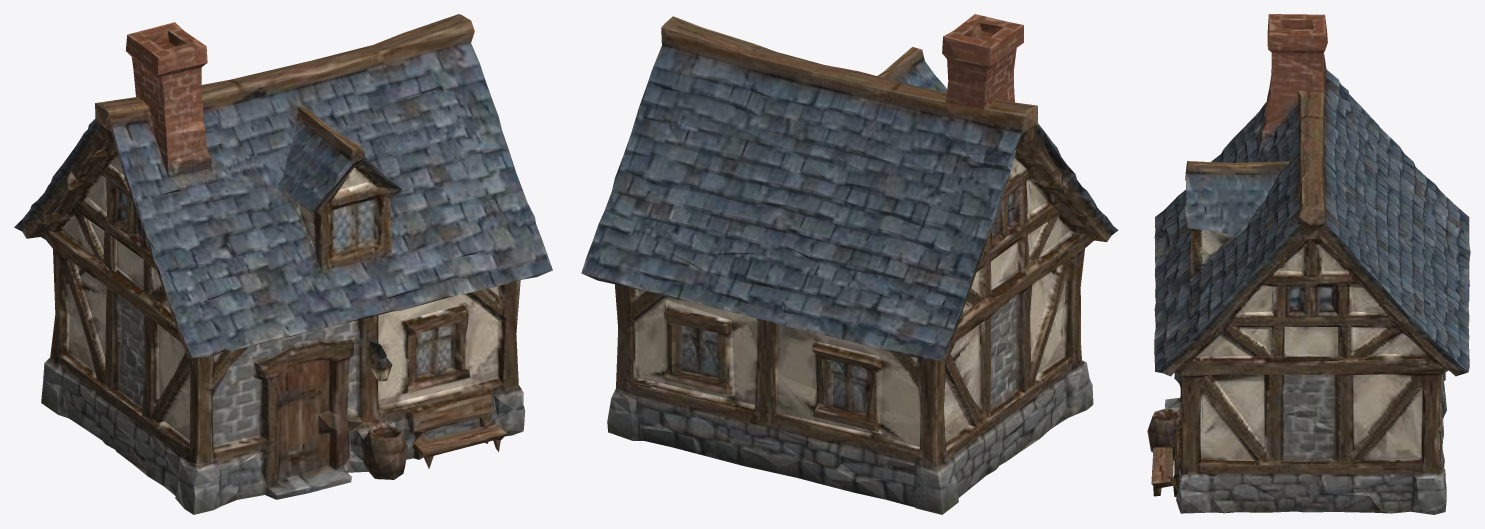
File: house_peasant_b_lod2.glb
The picture shows the model from 3 angles, left to right: view 1: azimuth 30°, elevation 25°; view 2: azimuth 150°, elevation 25°; view 3: azimuth 270°, elevation 25°; orthographic projection. The views are drawn at different scales.
Parts seen in each view (by area): view 1: lod; view 2: lod; view 3: lod.
Boxes of the visible parts, x1,y1,x2,y2 form: lod: (14, 14, 552, 514); lod: (581, 14, 1118, 514); lod: (1147, 14, 1470, 514).
Size of the model in its own units: 1.7 by 1.83 by 1.47.
1 material, 1 textured.
